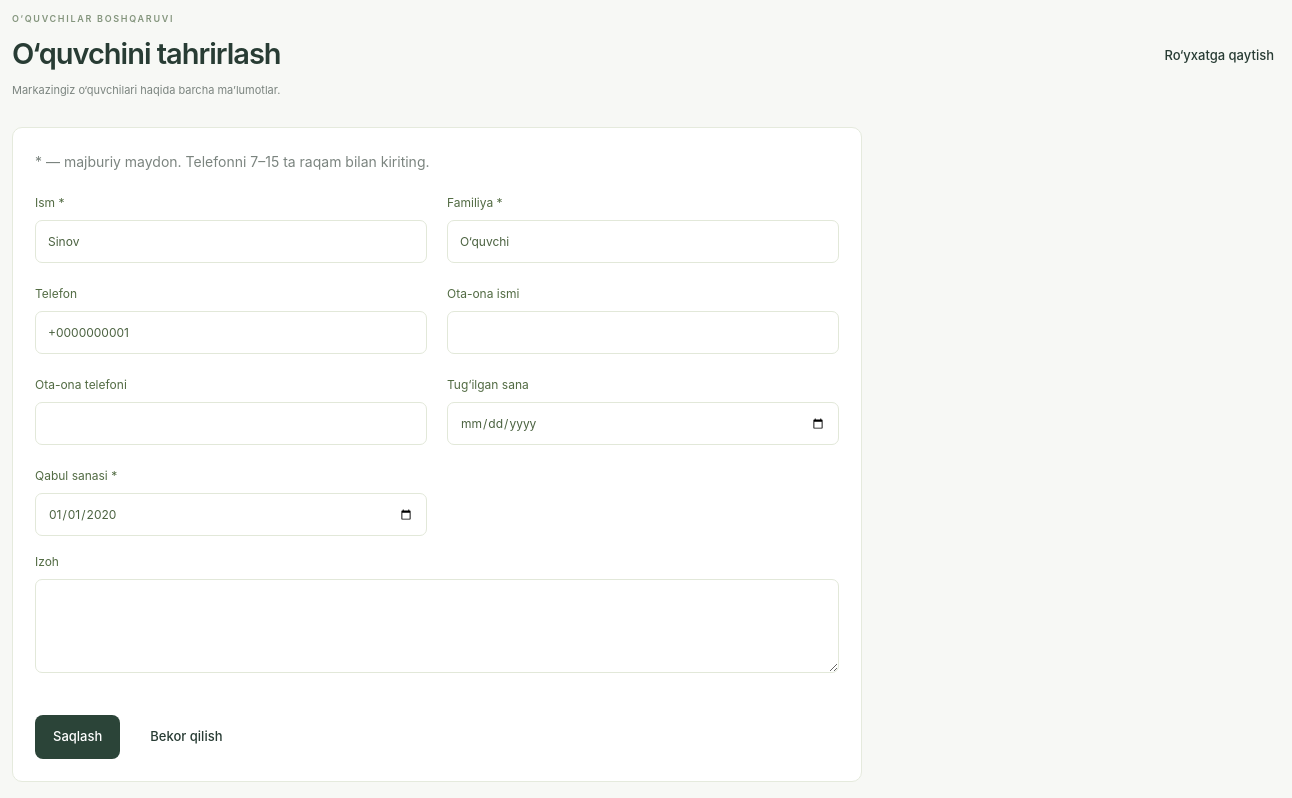
Test: loads an edit form and focuses a field rejected by the API
Expected: the field showing "Sinov" is shown, [35, 220, 427, 263]
Click the button "Saqlash" at (78, 737), box [35, 715, 120, 759]
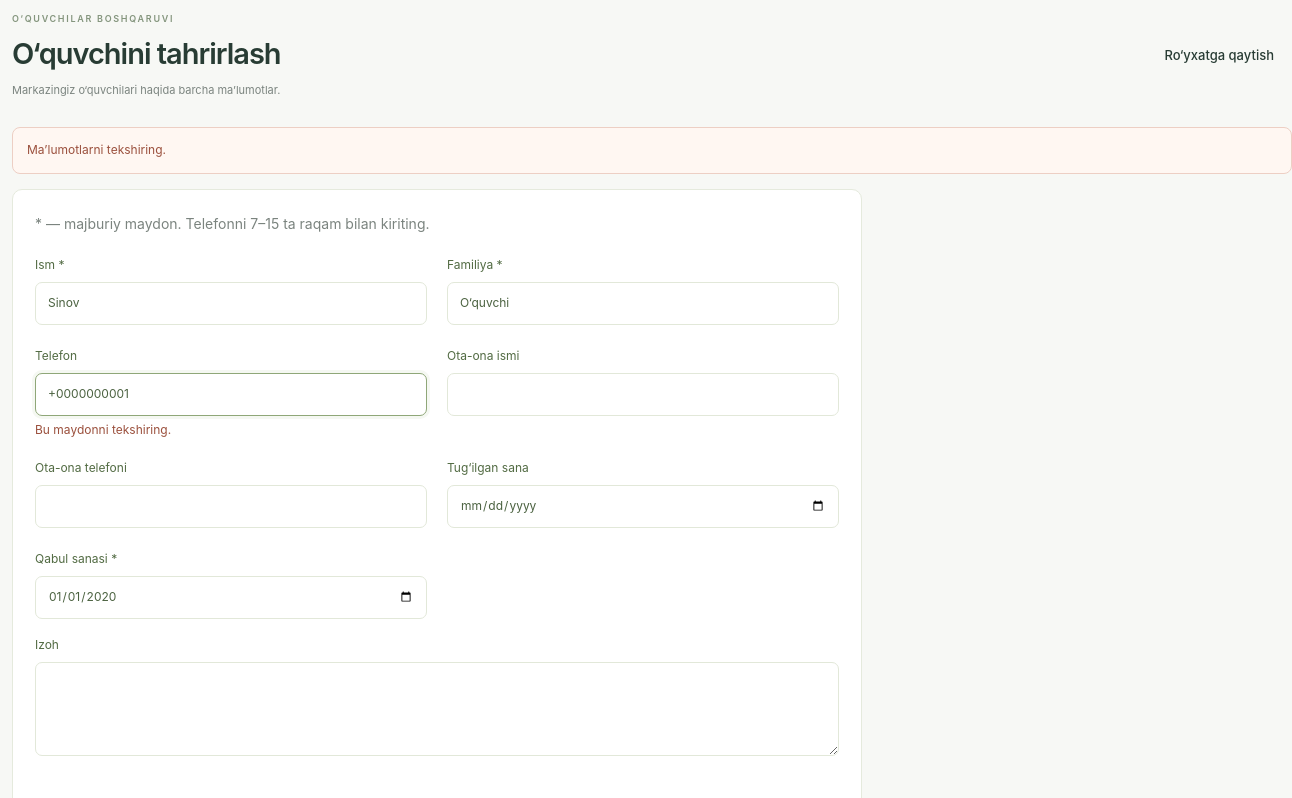
Expected: the message reads "Ma’lumotlarni tekshiring.", [27, 142, 166, 157]
